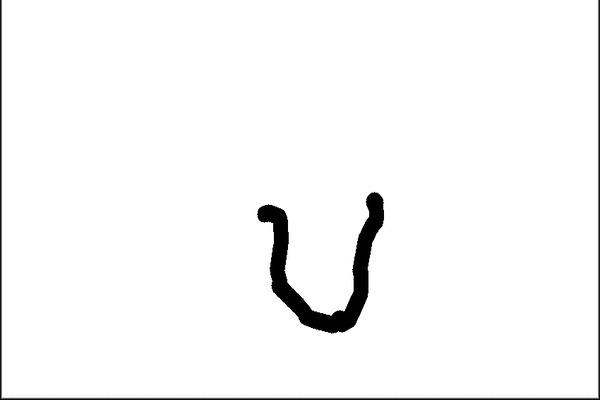U: (252, 183, 387, 335)
